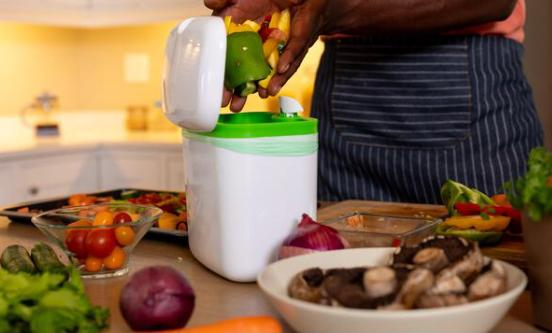organic: (280, 243, 518, 326), (0, 184, 204, 240), (0, 241, 112, 333), (54, 202, 161, 274), (437, 180, 550, 248), (116, 266, 198, 333)
